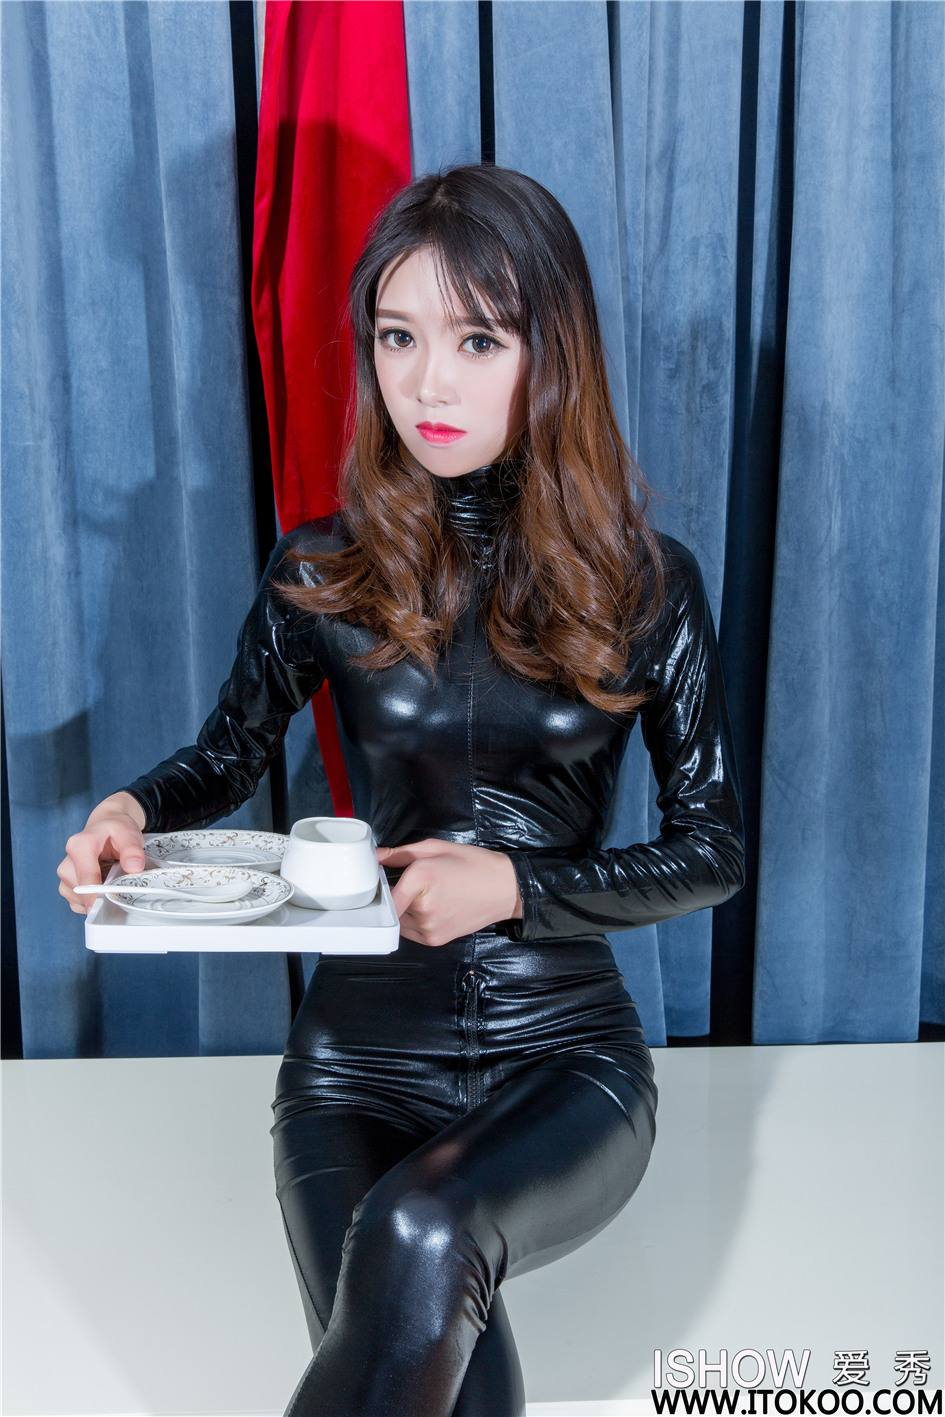person: (103, 167, 757, 1222)
